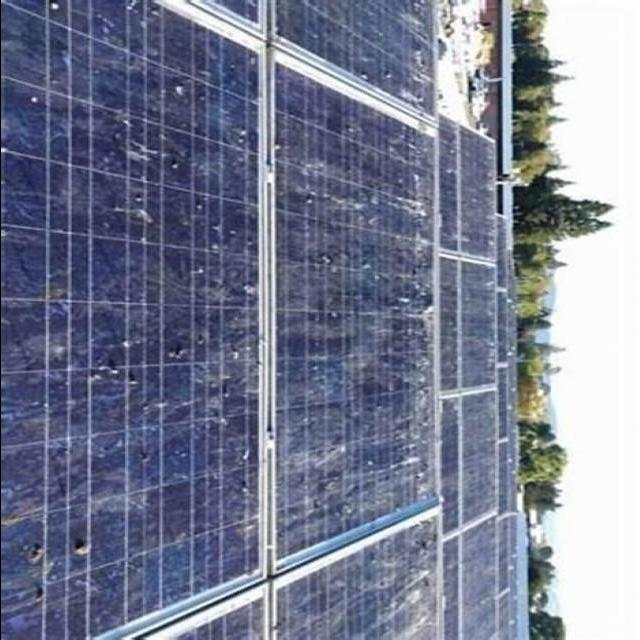soiled: (1, 2, 260, 640), (268, 1, 437, 638), (438, 117, 497, 638)
